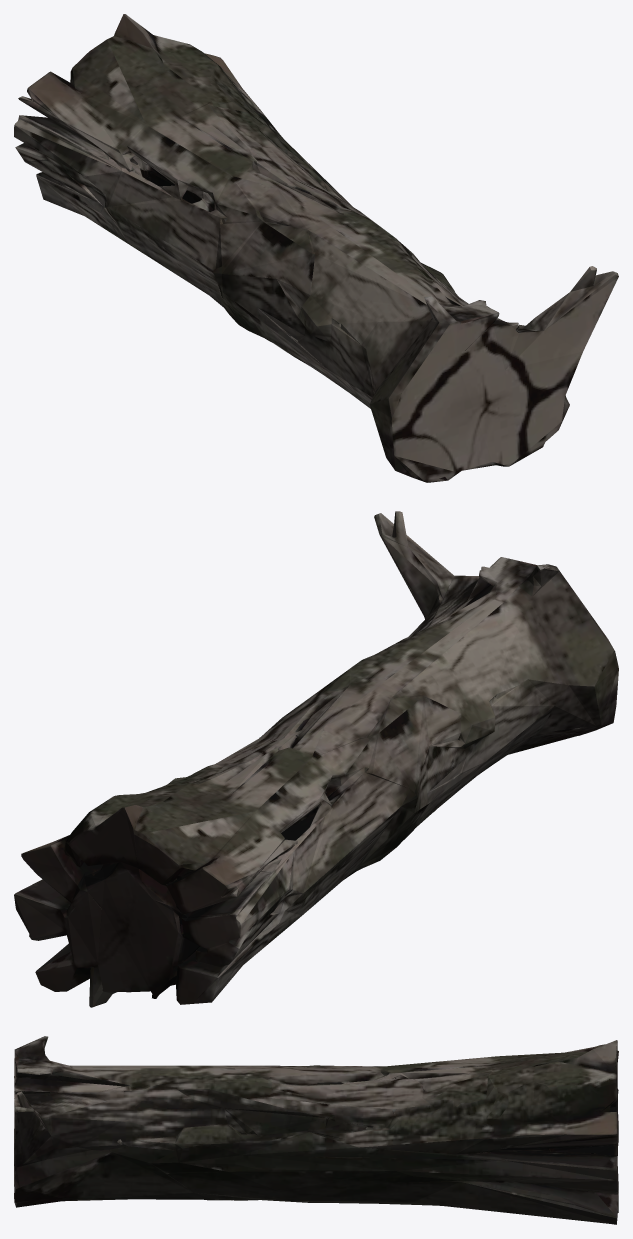
Rendered from char_fallen_log_01.glb.
3 renders of one model, top to bottom at view 1: azimuth 30°, elevation 25°; view 2: azimuth 150°, elevation 25°; view 3: azimuth 270°, elevation 25°, orthographic. The views are drawn at different scales.
Parts seen in each view (by area): view 1: geometry_0; view 2: geometry_0; view 3: geometry_0.
Part boxes in pixels (x1,y1,x2,y2): geometry_0: (14, 14, 618, 482); geometry_0: (14, 511, 618, 1007); geometry_0: (14, 1036, 618, 1224).
Bounding box in the file's own units: 0.3744 × 0.299 × 0.9985.
1 material, 1 textured.
